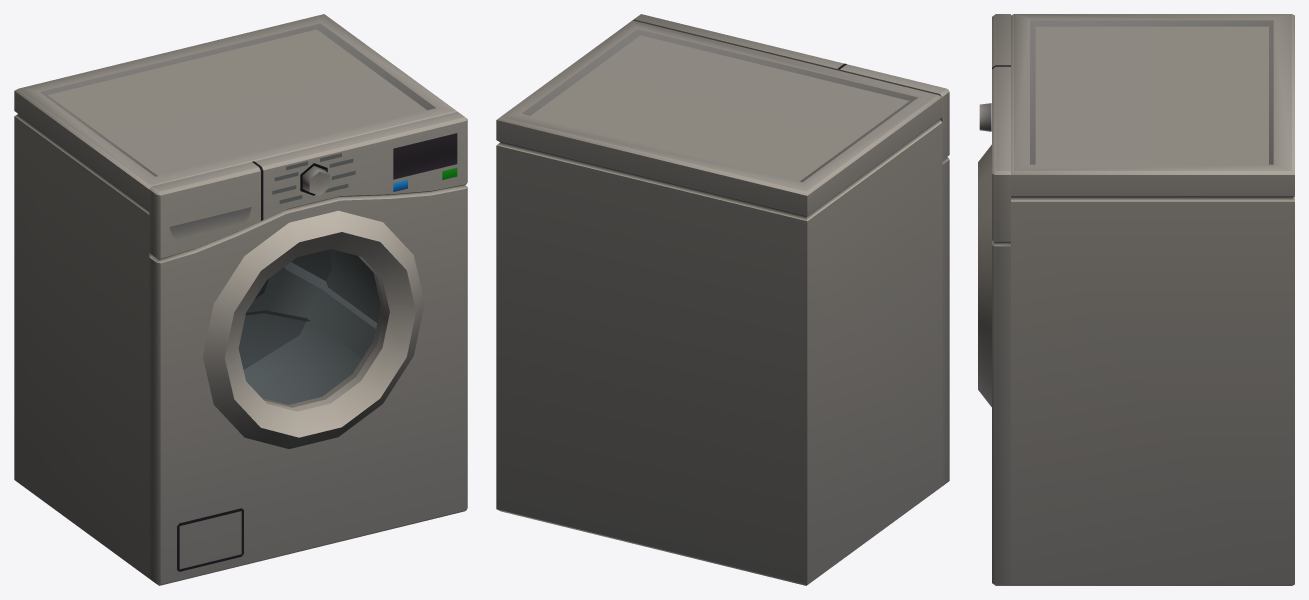
Rendered from TSP_Washer_01A.fbx.
3 views of the same model, side by side, from view 1: azimuth 30°, elevation 25°; view 2: azimuth 150°, elevation 25°; view 3: azimuth 270°, elevation 25° (orthographic). The views are drawn at different scales.
Parts seen in each view (by area): view 1: TSP_Washer_01A; view 2: TSP_Washer_01A; view 3: TSP_Washer_01A.
Boxes of the visible parts, bbox=[...] form: TSP_Washer_01A: bbox=[14, 14, 467, 585]; TSP_Washer_01A: bbox=[496, 14, 949, 585]; TSP_Washer_01A: bbox=[978, 14, 1294, 585].
Size of the model in its own units: 1 by 1.21 by 0.8388.
